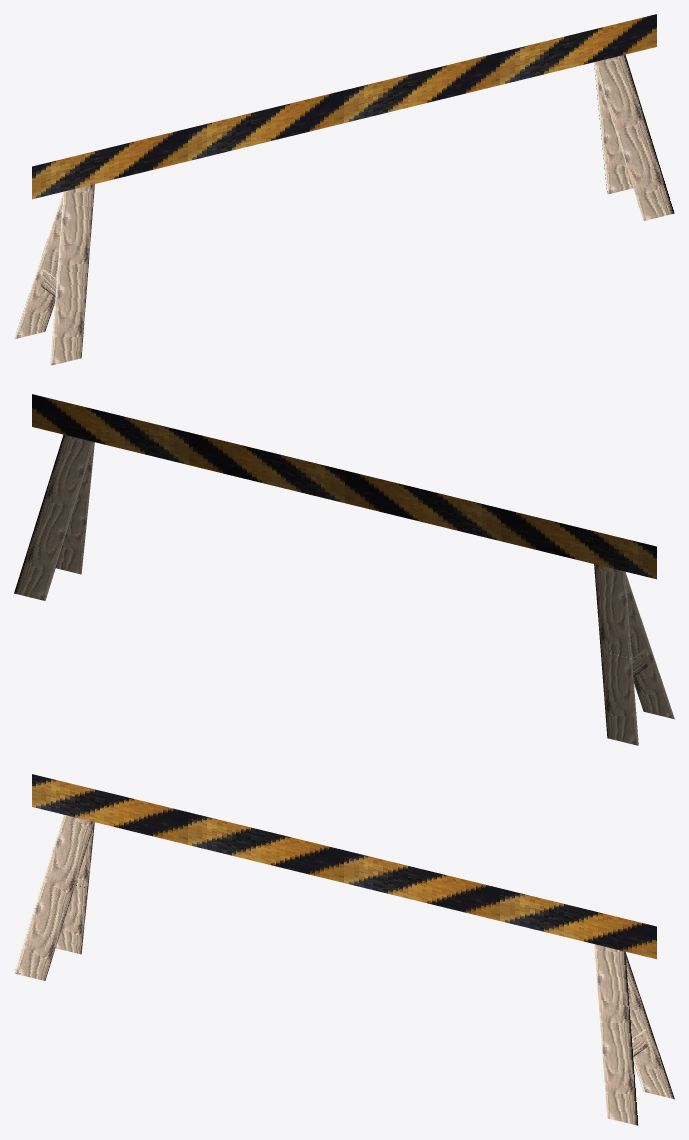
The model's file is PbarricadeZ.obj.
The picture shows the model from 3 angles, top to bottom: view 1: azimuth 30°, elevation 25°; view 2: azimuth 150°, elevation 25°; view 3: azimuth 330°, elevation 25°; orthographic projection.
Bounding box in the file's own units: 3920 × 1116 × 394.
2 materials, 2 textured.
